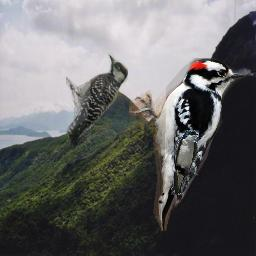Swallow: (171, 130, 199, 195)
Woodpecker: (129, 58, 244, 231), (66, 50, 128, 150)
